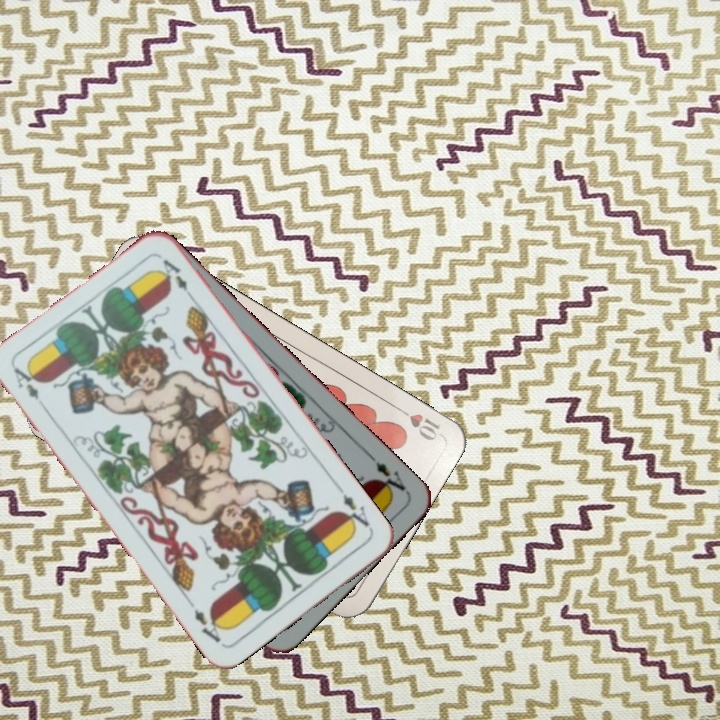EA: (364, 450, 411, 500), (9, 362, 50, 413), (334, 482, 372, 533)
H10: (391, 401, 443, 444)
